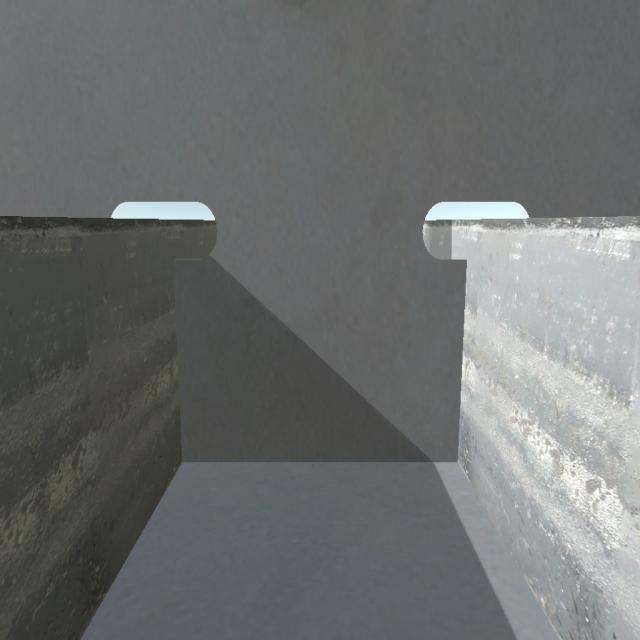fillet_yong_jeop_jang: (177, 454, 468, 470)
longi_yong_jeop_jang: (169, 254, 189, 462), (450, 252, 466, 466)
